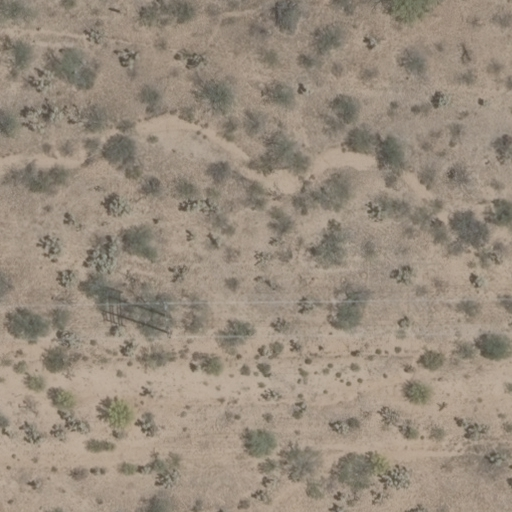DT: (151, 295, 179, 342)
